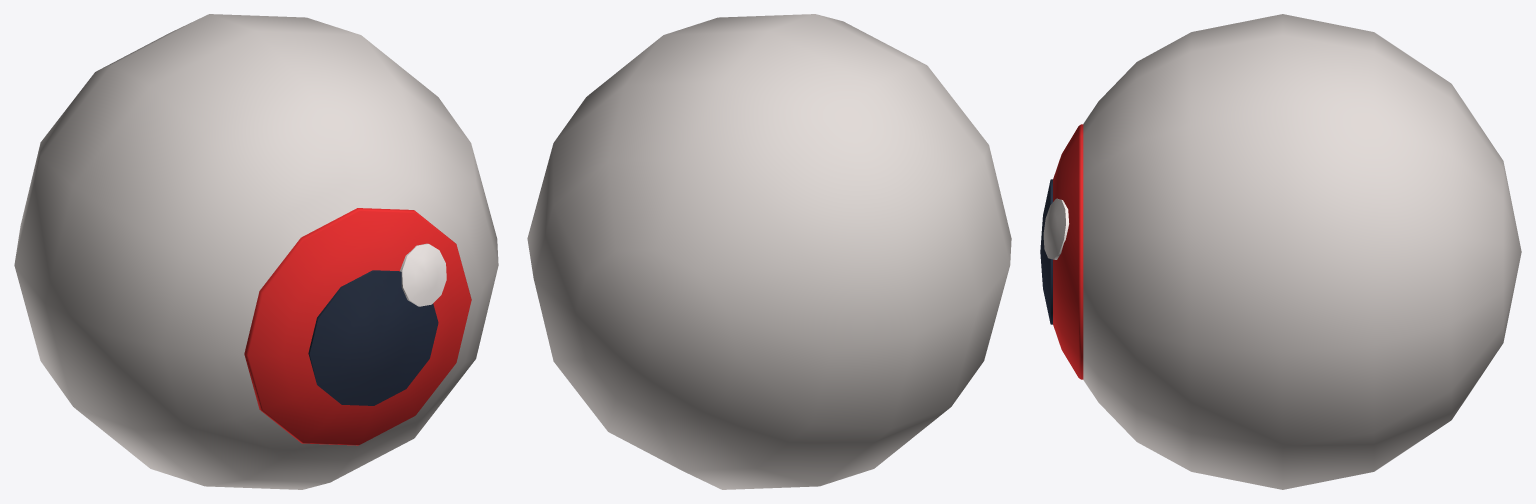
3 renders of one model, left to right at view 1: azimuth 30°, elevation 25°; view 2: azimuth 150°, elevation 25°; view 3: azimuth 270°, elevation 25°, orthographic.
Visible parts, largest first — view 1: model_0.036; view 2: model_0.036; view 3: model_0.036.
Boxes of the visible parts, x1,y1,x2,y2 form: model_0.036: [14, 14, 498, 489]; model_0.036: [527, 14, 1011, 489]; model_0.036: [1040, 14, 1521, 489].
Bounding box in the file's own units: 3.44 × 3.44 × 3.47.
